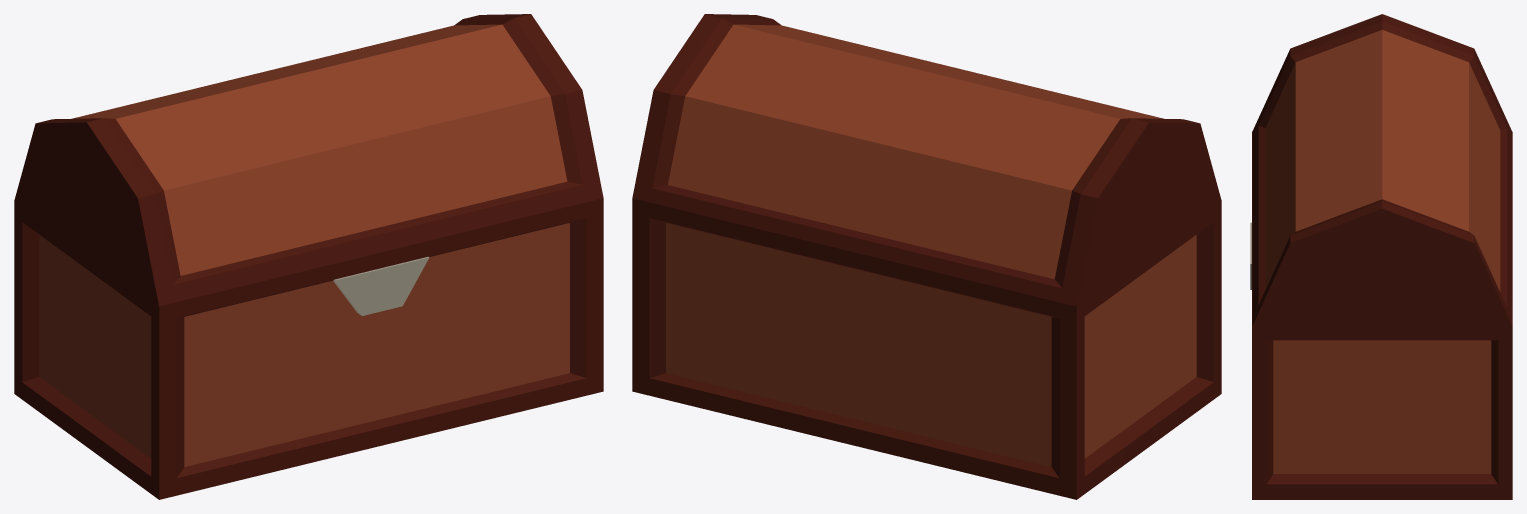
File: sunduk2.fbx
3 renders of one model, left to right at view 1: azimuth 30°, elevation 25°; view 2: azimuth 150°, elevation 25°; view 3: azimuth 270°, elevation 25°, orthographic. The views are drawn at different scales.
Parts seen in each view (by area): view 1: Cube.043; view 2: Cube.043; view 3: Cube.043.
Part boxes in pixels (x1=…): Cube.043: x1=14, y1=14, x2=603, y2=499; Cube.043: x1=632, y1=14, x2=1221, y2=499; Cube.043: x1=1250, y1=14, x2=1512, y2=499.
Size of the model in its own units: 1.58 by 1.1 by 0.896.
